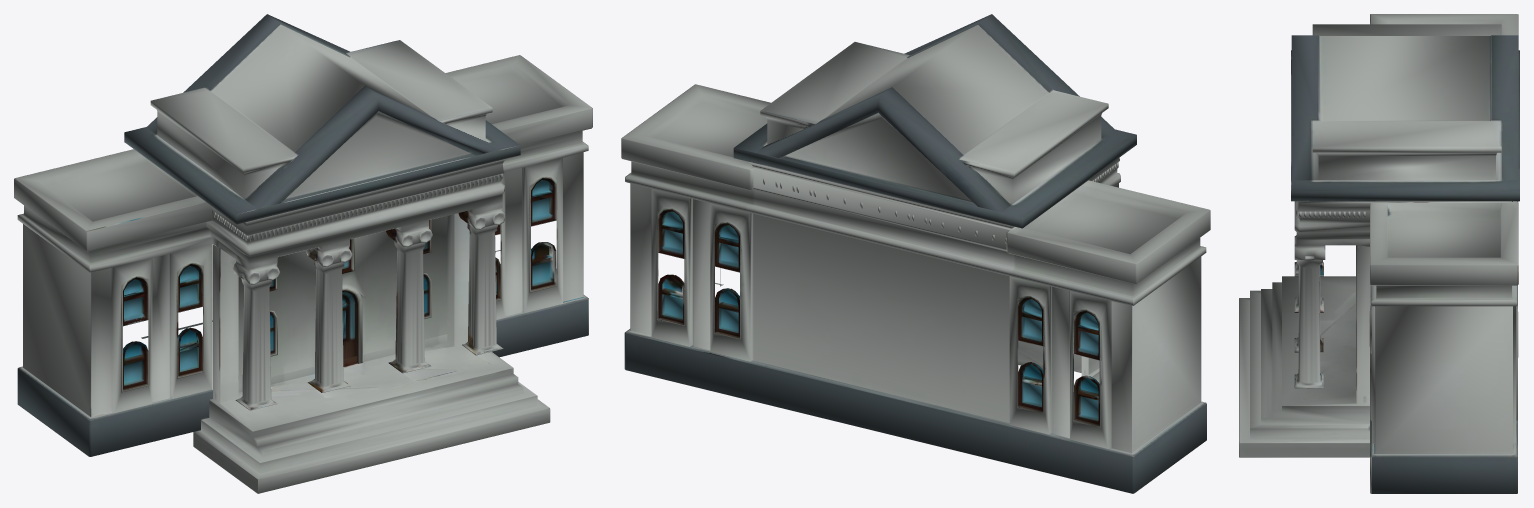
The model's file is kantor_pemerintah.glb.
3 renders of one model, left to right at view 1: azimuth 30°, elevation 25°; view 2: azimuth 150°, elevation 25°; view 3: azimuth 270°, elevation 25°, orthographic.
Visible parts, largest first — view 1: tripo_node_67bc15fa; view 2: tripo_node_67bc15fa; view 3: tripo_node_67bc15fa.
Part boxes in pixels (x1,y1,x2,y2): tripo_node_67bc15fa: (14,14,592,493); tripo_node_67bc15fa: (621,14,1210,493); tripo_node_67bc15fa: (1239,14,1519,493).
Bounding box in the file's own units: 1 × 0.6489 × 0.4717.
Materials: 1 (1 with a texture image).
